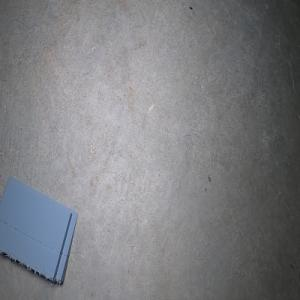PlasticPart: (0, 175, 78, 285)
